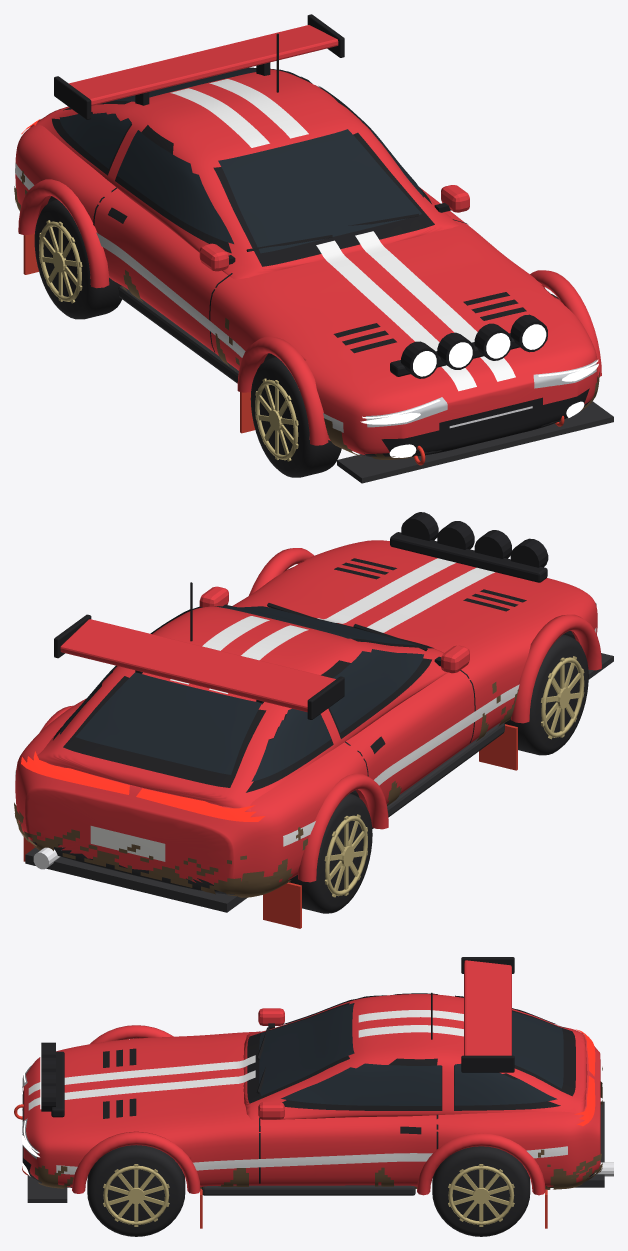
The model's file is car_coupe.glb.
3 renders of one model, top to bottom at view 1: azimuth 30°, elevation 25°; view 2: azimuth 150°, elevation 25°; view 3: azimuth 270°, elevation 25°, orthographic. The views are drawn at different scales.
Parts seen in each view (by area): view 1: Body, WheelFR, WheelRR; view 2: Body, WheelFR, WheelRR; view 3: Body, WheelFL, WheelRL.
Part boxes in pixels (x1,y1,x2,y2): Body: (14, 14, 613, 483); WheelFR: (250, 357, 341, 477); WheelRR: (34, 199, 121, 319); Body: (14, 512, 613, 928); WheelFR: (504, 634, 588, 755); WheelRR: (289, 793, 372, 913); Body: (14, 957, 613, 1228); WheelFL: (87, 1145, 185, 1236); WheelRL: (432, 1146, 530, 1236).
Size of the model in its own units: 2.07 by 1.73 by 4.52.
